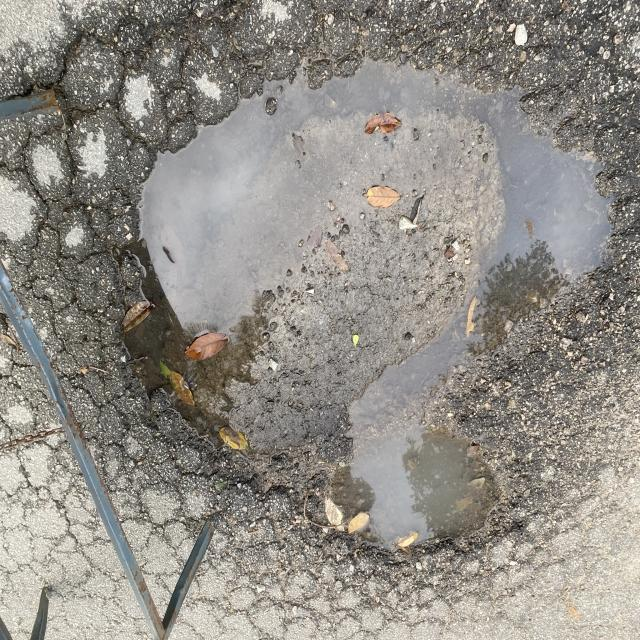Pothole: (47, 34, 578, 585)
